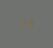nine: (26, 20, 32, 27)
two: (19, 20, 25, 28)
